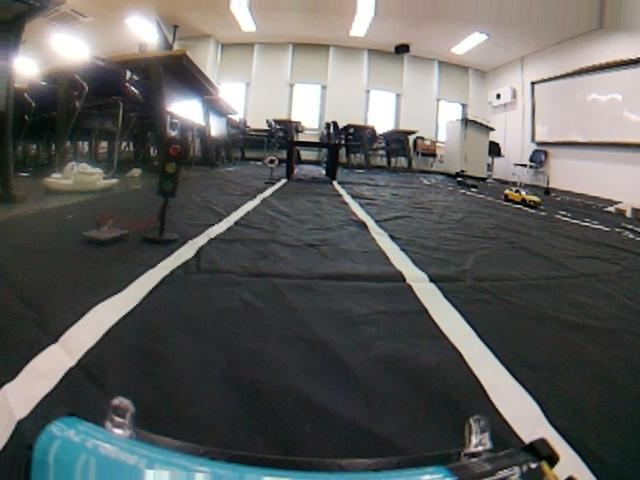green_light: (156, 139, 185, 198)
sign_tunnel: (265, 155, 279, 169)
straight: (3, 206, 616, 474)
